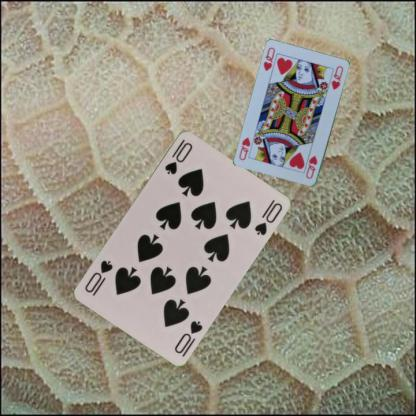10s: (162, 136, 194, 176), (172, 317, 204, 355)
Qh: (303, 153, 319, 180), (261, 45, 276, 72)
